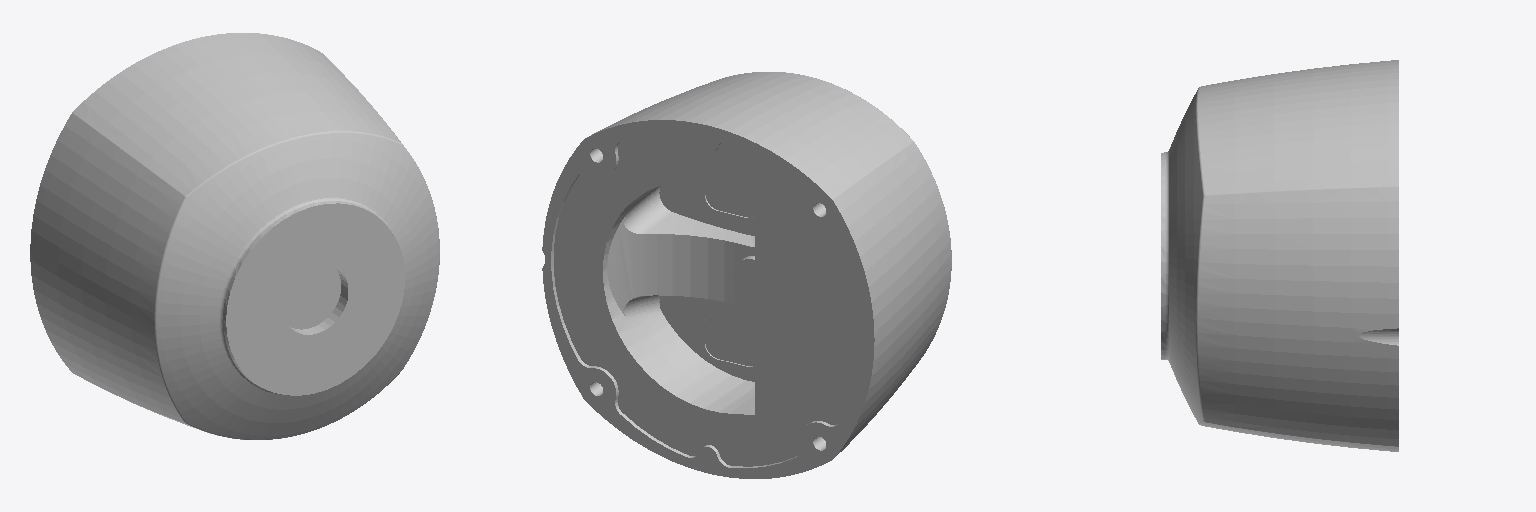
The picture shows the model from 3 angles: view 1: azimuth 30°, elevation 25°; view 2: azimuth 150°, elevation 25°; view 3: azimuth 270°, elevation 25°; orthographic projection.
Parts seen in each view (by area): view 1: /ambf/env/base; view 2: /ambf/env/base; view 3: /ambf/env/base.
Part boxes in pixels (x1,y1,x2,y2): /ambf/env/base: (30,33,439,439); /ambf/env/base: (542,72,951,478); /ambf/env/base: (1161,60,1398,451).
Bounding box in the file's own units: 0.2574 × 0.2575 × 0.1599.